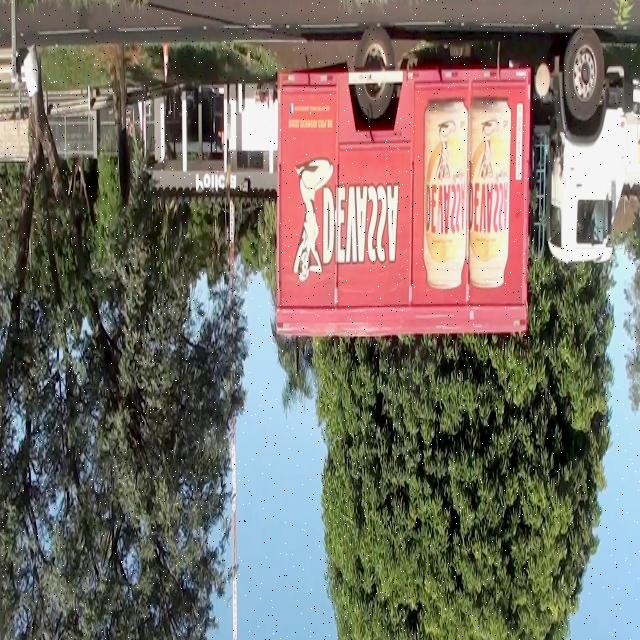-axle: (562, 32, 601, 122), (357, 36, 395, 121)
